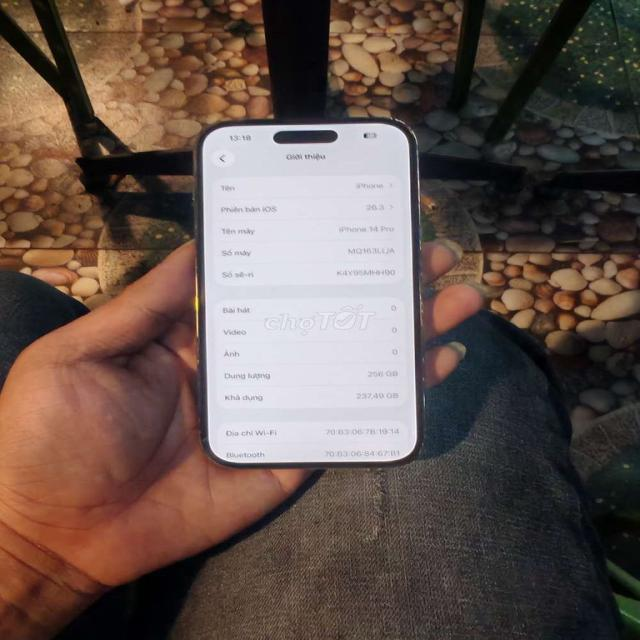gen_14: (171, 105, 433, 473)
